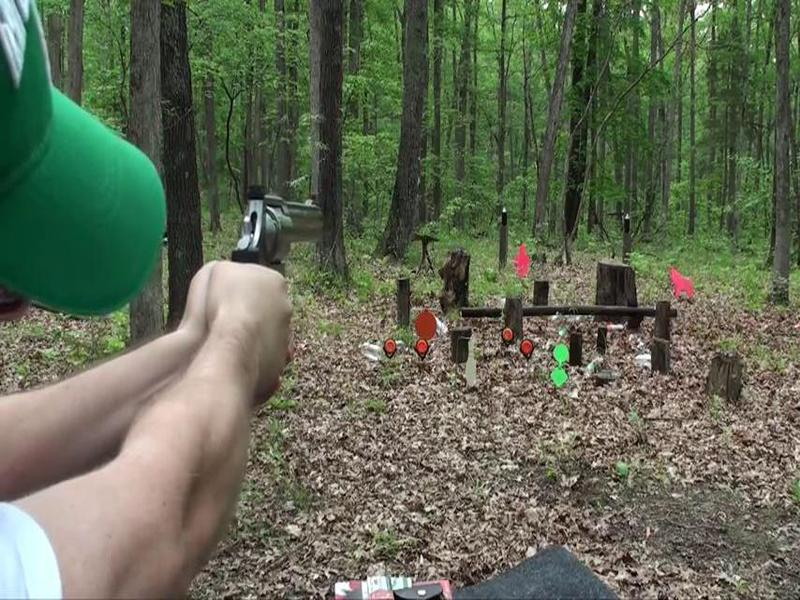Revolver: (218, 179, 330, 279)
